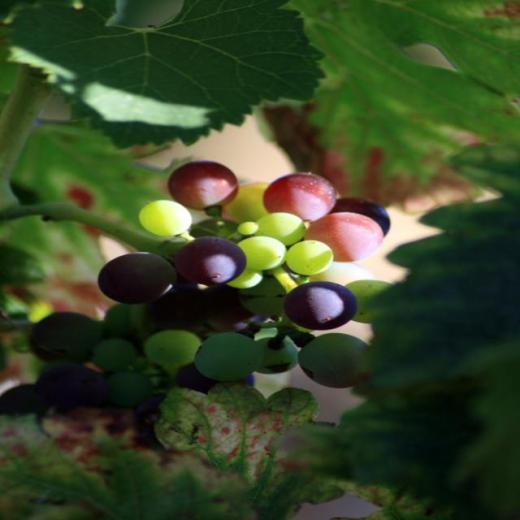Orange: (0, 164, 395, 411)
